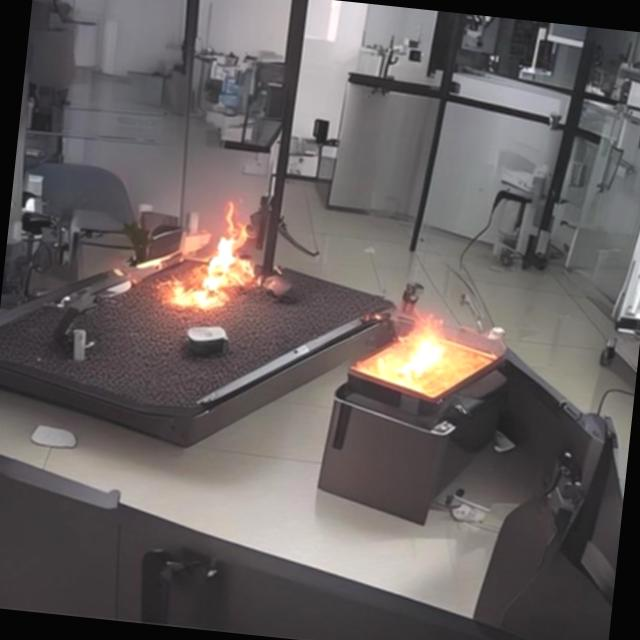fire: (360, 287, 498, 412), (161, 210, 280, 344)
